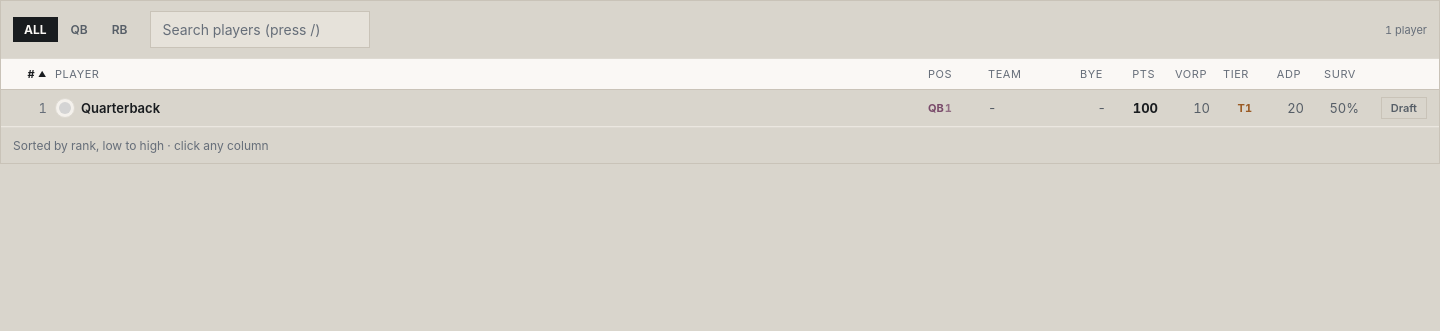
Test: Board when there is nothing to show › distinguishes a filtered-out board from a fully drafted one
# Filtered empty: the way out is offered.
Click the button "RB": {"x": 120, "y": 30} [101,17,138,42]
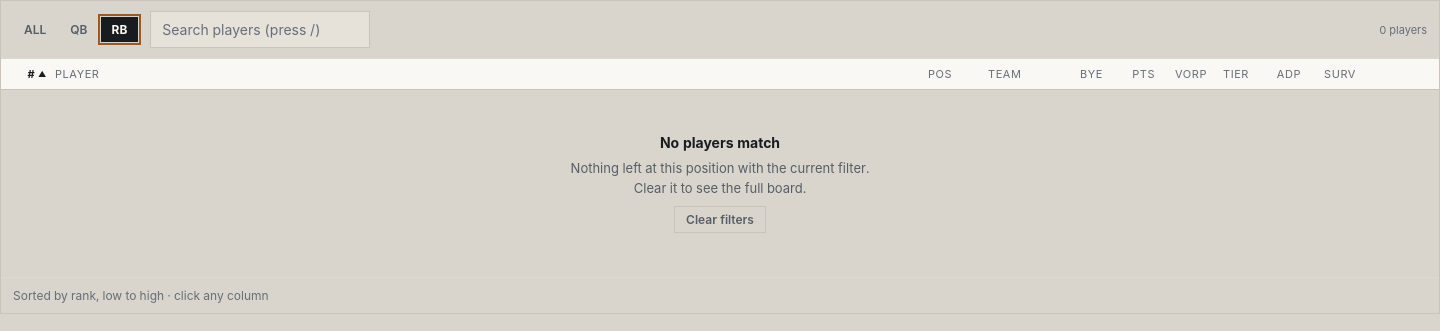
Expected: the text "No players match" is shown, [660,134,780,151]
Expected: the text "Nothing left at this position with the current filter" is shown, [571,160,869,196]
Click the button "Clear filters": {"x": 720, "y": 220} [674,206,766,233]
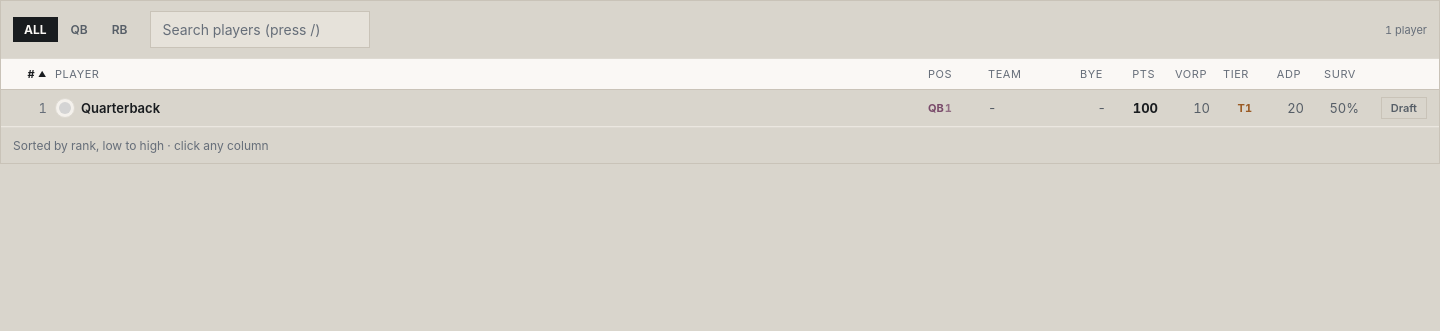
Expected: the text "Quarterback" is shown, [81,100,160,116]
